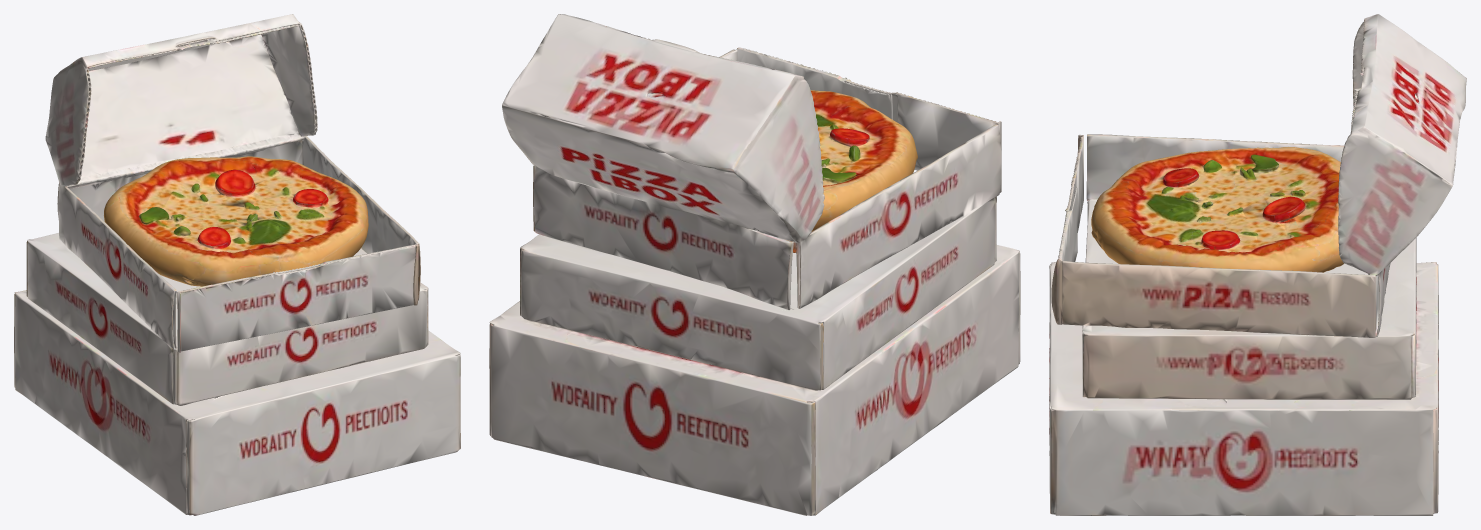
The model's file is pizza.glb.
3 renders of one model, left to right at view 1: azimuth 30°, elevation 25°; view 2: azimuth 150°, elevation 25°; view 3: azimuth 270°, elevation 25°, orthographic. The views are drawn at different scales.
Bounding box in the file's own units: 1.6 × 1.9 × 1.9.
1 material, 1 textured.
